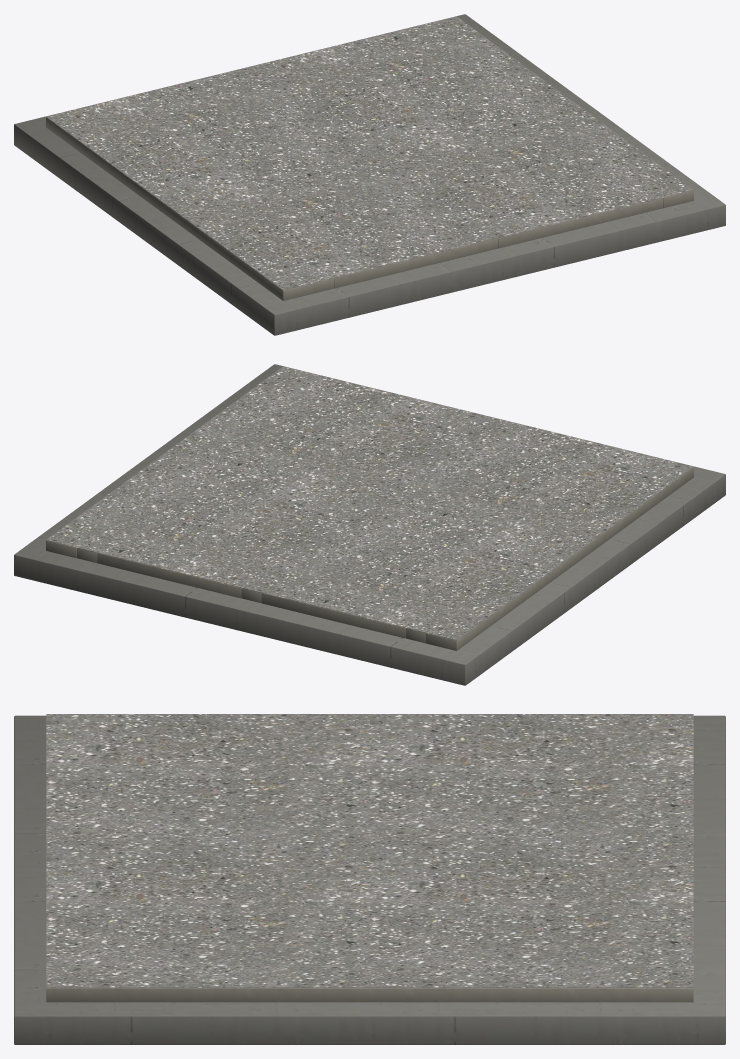
Rendered from KIT-PIS-01_lod1.glb.
3 views of the same model, one above another, from view 1: azimuth 30°, elevation 25°; view 2: azimuth 150°, elevation 25°; view 3: azimuth 270°, elevation 25° (orthographic). The views are drawn at different scales.
Visible parts, largest first — view 1: KIT-PIS-01_desempeno, KIT-PIS-01_laje, KIT-PIS-01_contrapiso0, KIT-PIS-01_contrapiso1, KIT-PIS-01_contrapiso2; view 2: KIT-PIS-01_desempeno, KIT-PIS-01_laje, KIT-PIS-01_contrapiso0, KIT-PIS-01_contrapiso1, KIT-PIS-01_contrapiso2; view 3: KIT-PIS-01_desempeno, KIT-PIS-01_laje, KIT-PIS-01_contrapiso3.
Part boxes in pixels (<box>): KIT-PIS-01_desempeno: <box>46,16,693,290</box>; KIT-PIS-01_laje: <box>14,14,725,335</box>; KIT-PIS-01_contrapiso0: <box>46,117,313,300</box>; KIT-PIS-01_contrapiso1: <box>334,243,478,288</box>; KIT-PIS-01_contrapiso2: <box>498,203,642,248</box>; KIT-PIS-01_desempeno: <box>46,366,693,640</box>; KIT-PIS-01_laje: <box>14,364,725,685</box>; KIT-PIS-01_contrapiso0: <box>426,467,693,650</box>; KIT-PIS-01_contrapiso1: <box>261,593,405,638</box>; KIT-PIS-01_contrapiso2: <box>97,553,241,598</box>; KIT-PIS-01_desempeno: <box>46,714,693,987</box>; KIT-PIS-01_laje: <box>14,715,725,1044</box>; KIT-PIS-01_contrapiso3: <box>46,988,693,1002</box>.
Size of the model in its own units: 2.2 by 0.151 by 2.2.
Materials: 4 (4 with a texture image).
